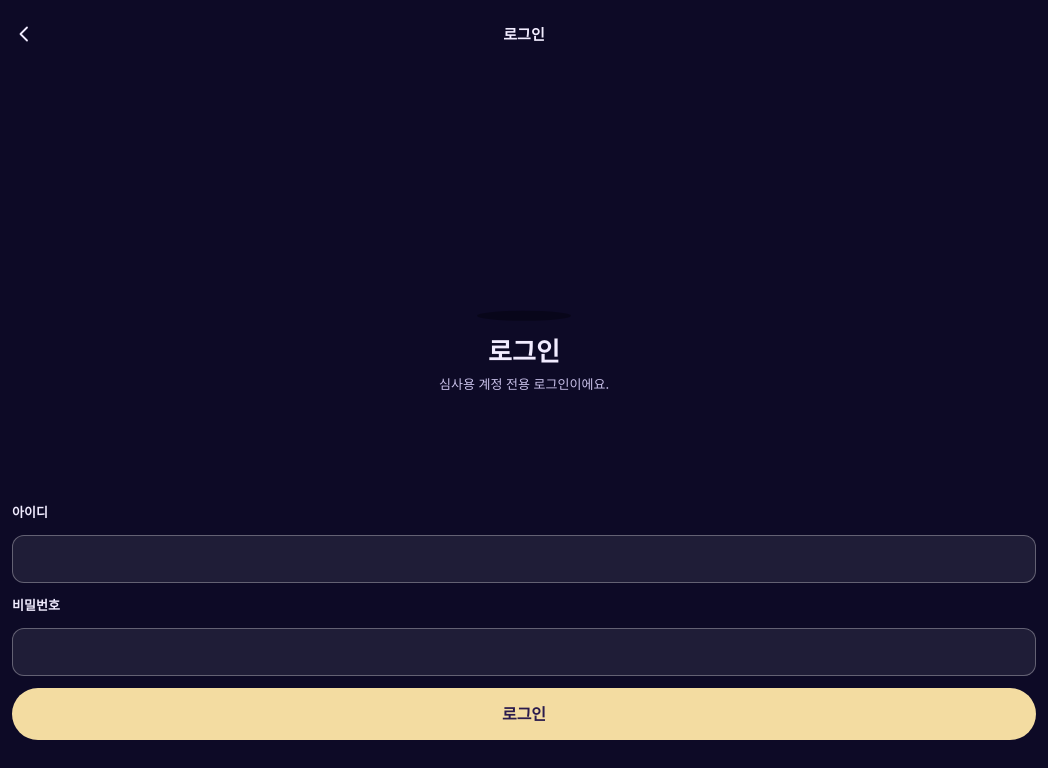
Test case: ReviewLoginForm › asks for both before sending anything
The width and height of the screenshot is (1048, 768).
In the field labelled "아이디": (524, 559) [12,535,1036,583], type "card-review"
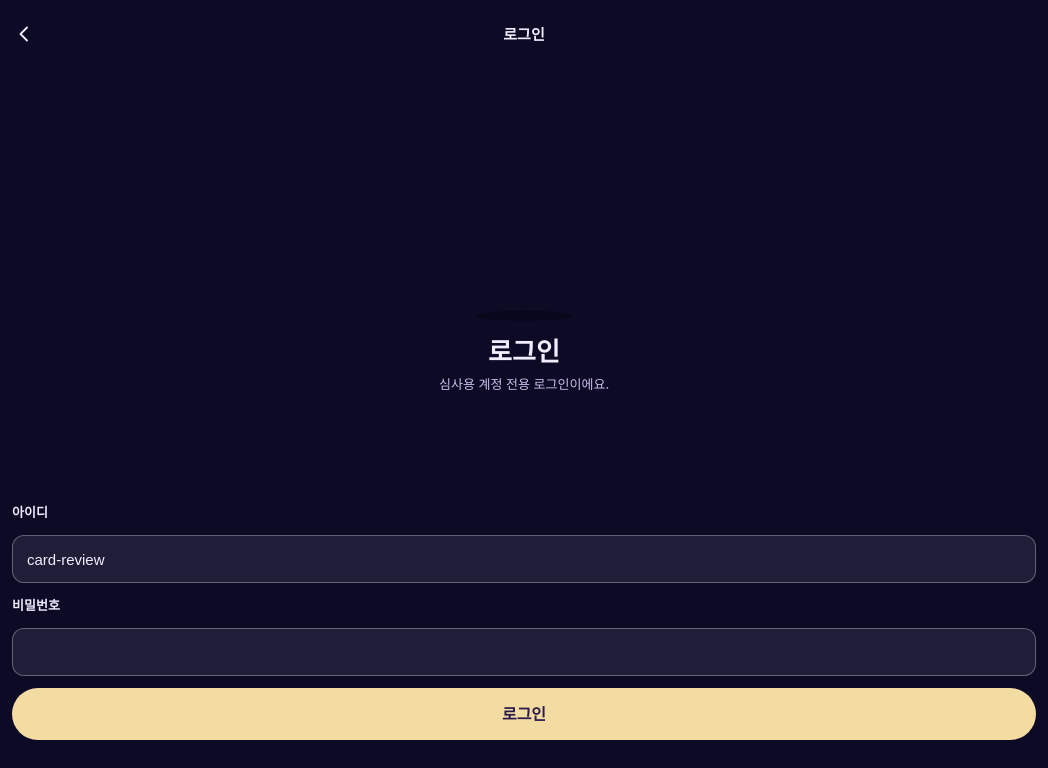
Click the button "로그인": (524, 714) [12,688,1036,740]
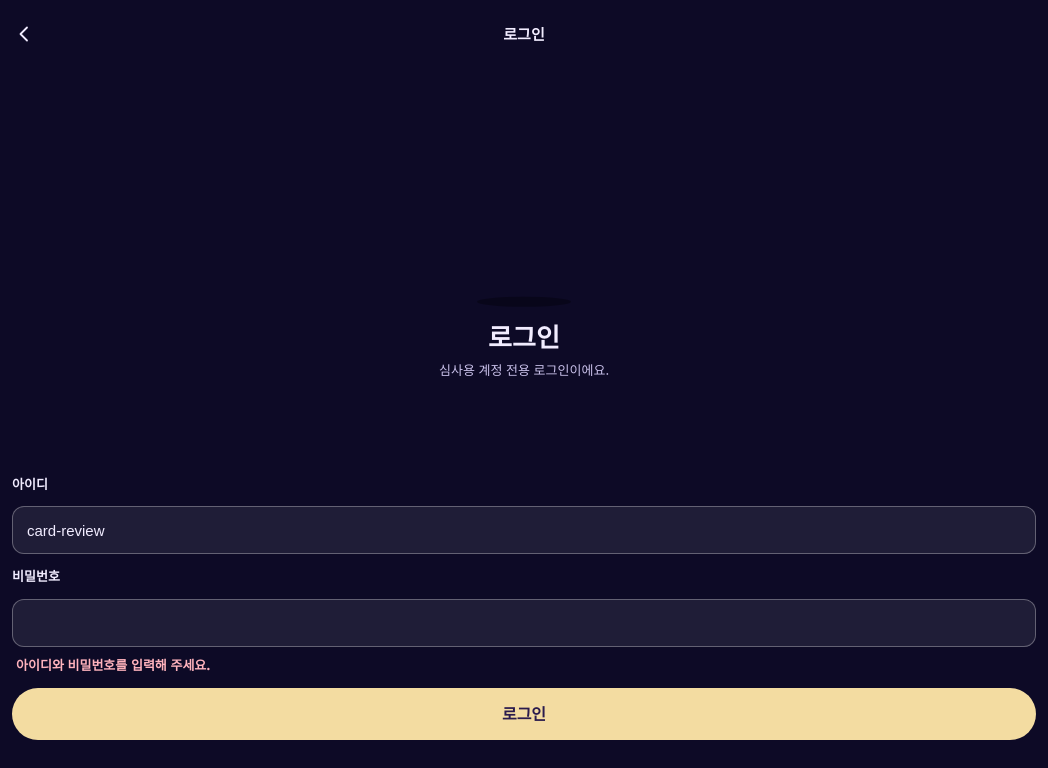
Result: the message reads "아이디와 비밀번호를 입력해 주세요." at [16,655,211,674]
